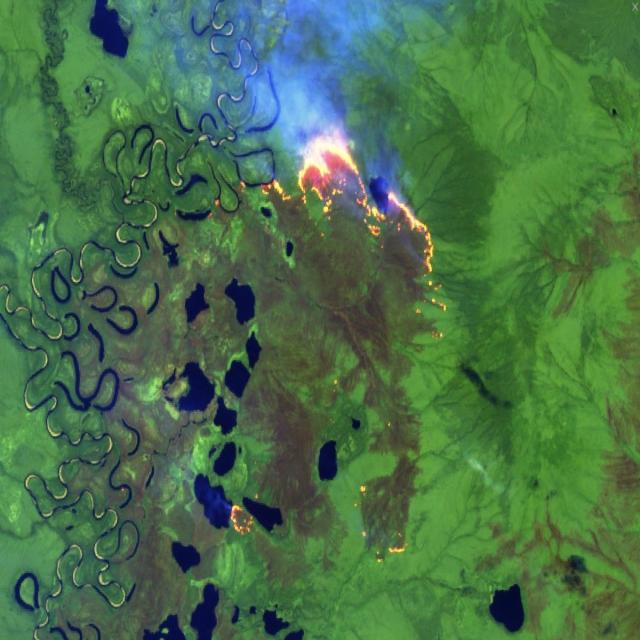fire: (234, 125, 445, 285)
